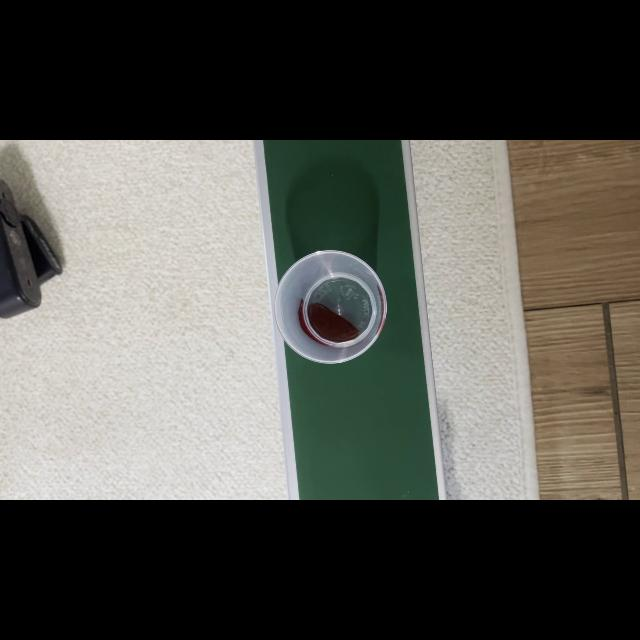dirty: (283, 254, 385, 356)
